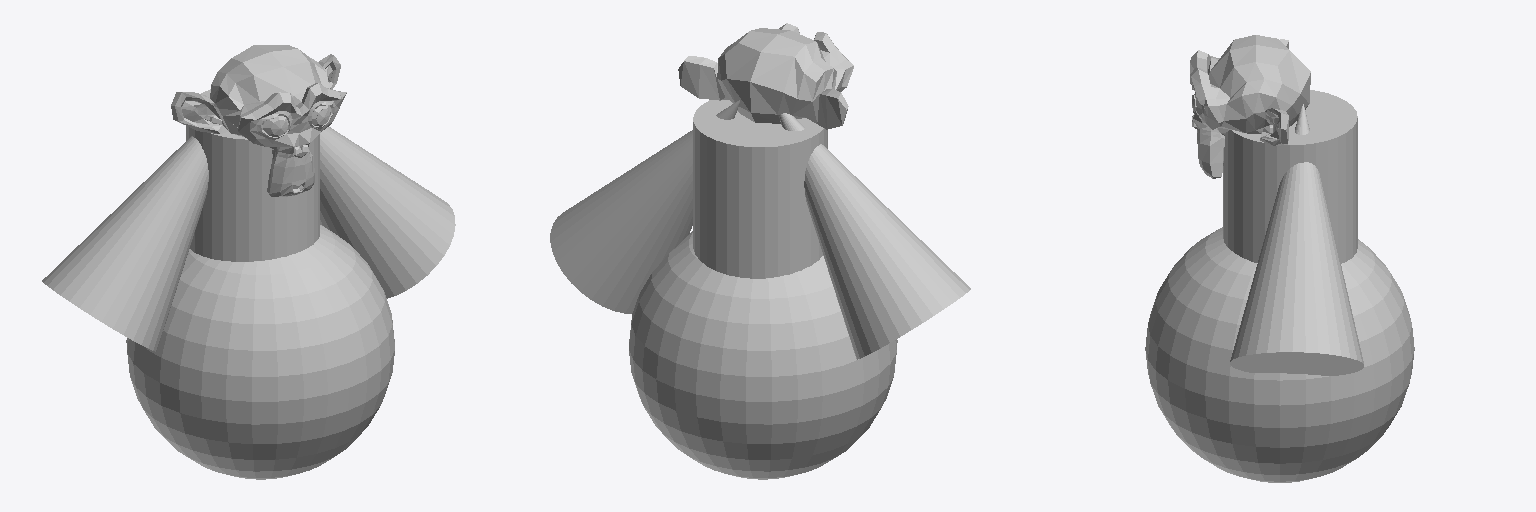
Rendered from weird.obj.
3 views of the same model, side by side, from view 1: azimuth 30°, elevation 25°; view 2: azimuth 150°, elevation 25°; view 3: azimuth 270°, elevation 25° (orthographic).
Visible parts, largest first — view 1: wheel, rightArm, head, leftArm, body; view 2: wheel, body, rightArm, leftArm, head; view 3: wheel, leftArm, body, head.
Boxes of the visible parts, <box> form: wheel: <box>126,225,394,479</box>; rightArm: <box>42,136,208,351</box>; head: <box>171,45,346,196</box>; leftArm: <box>320,127,455,298</box>; body: <box>186,89,319,261</box>; wheel: <box>629,231,897,479</box>; body: <box>693,100,827,278</box>; rightArm: <box>779,113,970,359</box>; leftArm: <box>550,100,739,313</box>; head: <box>678,23,853,129</box>; wheel: <box>1145,227,1414,482</box>; leftArm: <box>1230,104,1363,375</box>; body: <box>1223,90,1357,263</box>; head: <box>1190,35,1310,178</box>.
Size of the model in its own units: 3.39 by 3.48 by 2.